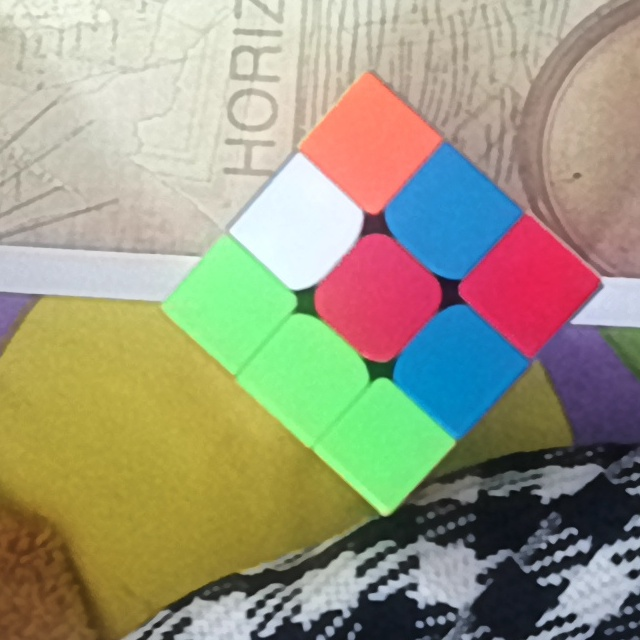tile: (334, 108, 409, 184), (491, 253, 565, 324), (265, 191, 333, 267), (342, 263, 417, 331), (427, 330, 493, 403), (354, 415, 426, 481), (194, 274, 267, 337), (272, 345, 344, 407), (419, 184, 481, 251)
